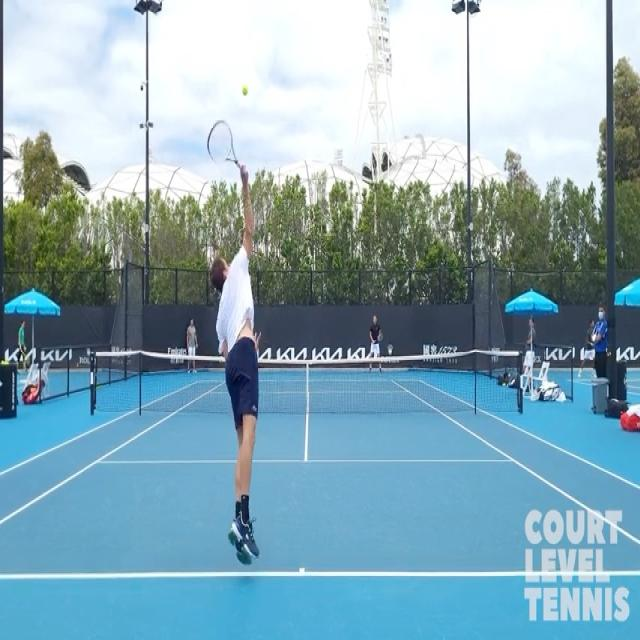serve_hit: (189, 120, 288, 568)
